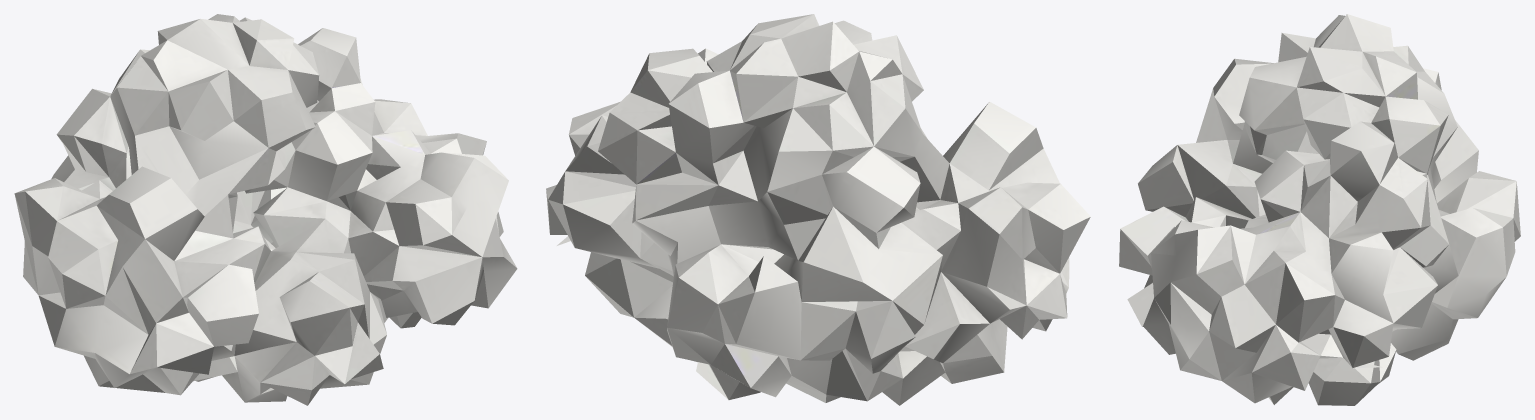
Rendered from cloudA.glb.
The picture shows the model from 3 angles, left to right: view 1: azimuth 30°, elevation 25°; view 2: azimuth 150°, elevation 25°; view 3: azimuth 270°, elevation 25°; orthographic projection. The views are drawn at different scales.
Size of the model in its own units: 1.89 by 1.41 by 1.52.
1 material, 1 textured.
